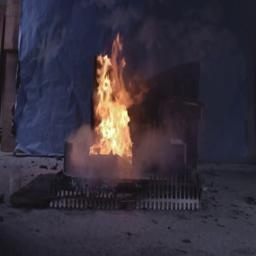fire: (90, 35, 143, 163)
